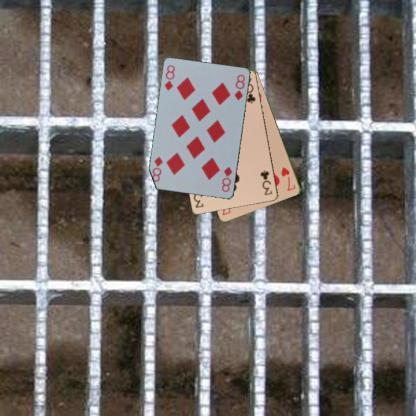3c: (258, 168, 273, 196)
7h: (278, 165, 297, 192)
8d: (219, 164, 234, 194), (162, 62, 176, 92)
